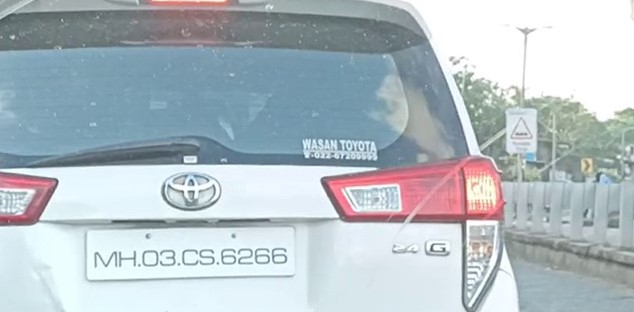MH03CS6266: (83, 224, 295, 280)
